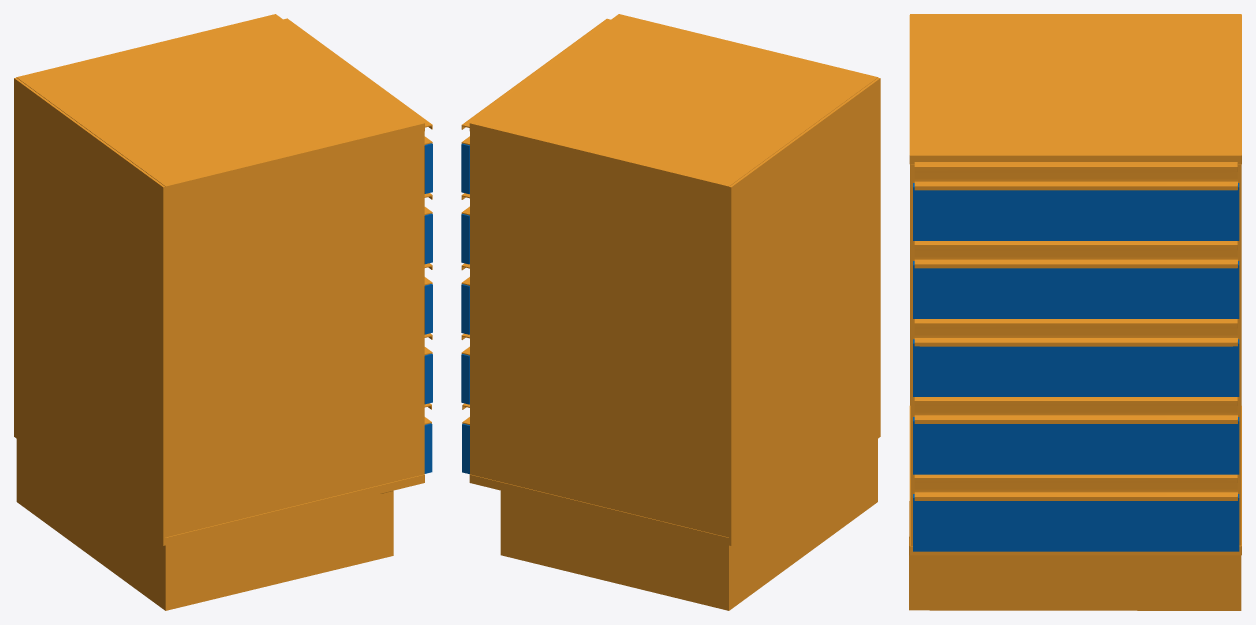
The model's file is meuble_tiroir2.gltf.
3 renders of one model, left to right at view 1: azimuth 30°, elevation 25°; view 2: azimuth 150°, elevation 25°; view 3: azimuth 270°, elevation 25°, orthographic. The views are drawn at different scales.
Visible parts, largest first — view 1: BODY.012, BACK.002, BASE.002, PULLER.007; view 2: BODY.012, BACK.002, BASE.002, PULLER.007; view 3: BODY.012, BASE.002, ouvrir0, ouvrir1, ouvrir2, ouvrir3, ouvrir4, PULLER.007, PULLER.004, PULLER.005, PULLER.006, PULLER.008 (+1 smaller).
Boxes of the visible parts, box(x1,y1,x2,y2) form: BODY.012: box(16, 14, 424, 545); BACK.002: box(14, 77, 165, 545); BASE.002: box(16, 439, 393, 610); PULLER.007: box(283, 18, 432, 144); BODY.012: box(469, 14, 877, 545); BACK.002: box(729, 77, 880, 545); BASE.002: box(500, 439, 877, 610); PULLER.007: box(461, 18, 610, 145); BODY.012: box(909, 15, 1241, 555); BASE.002: box(909, 501, 1241, 610); ouvrir0: box(913, 183, 1239, 240); ouvrir1: box(913, 261, 1239, 318); ouvrir2: box(913, 339, 1239, 396); ouvrir3: box(913, 417, 1239, 474); ouvrir4: box(913, 494, 1239, 551); PULLER.007: box(914, 162, 1237, 190); PULLER.004: box(914, 241, 1237, 268); PULLER.005: box(914, 319, 1237, 346); PULLER.006: box(914, 397, 1237, 423); PULLER.008: box(914, 474, 1237, 500).
Bounding box in the file's own units: 0.5247 × 0.7842 × 0.5008.
